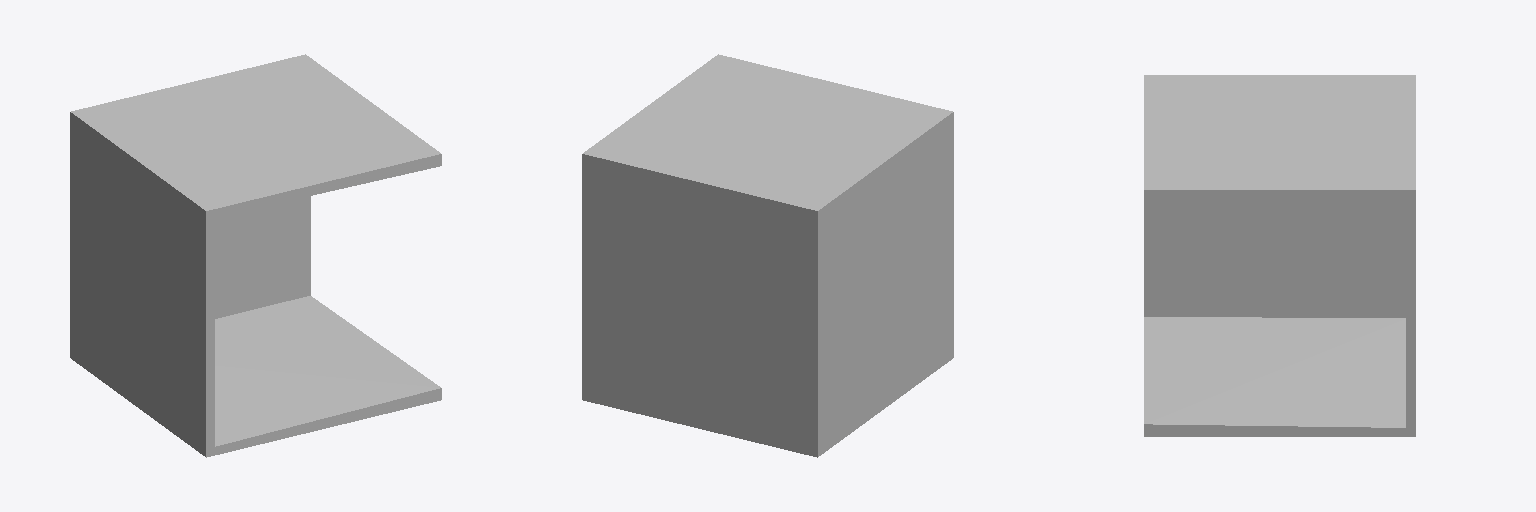
Rendered from abc.obj.
The picture shows the model from 3 angles: view 1: azimuth 30°, elevation 25°; view 2: azimuth 150°, elevation 25°; view 3: azimuth 270°, elevation 25°; orthographic projection.
Parts seen in each view (by area): view 1: Cube; view 2: Cube; view 3: Cube.
Part boxes in pixels (x1,y1,x2,y2): Cube: (70, 54, 441, 457); Cube: (582, 54, 953, 457); Cube: (1144, 75, 1415, 436).
Bounding box in the file's own units: 60 × 60 × 60.